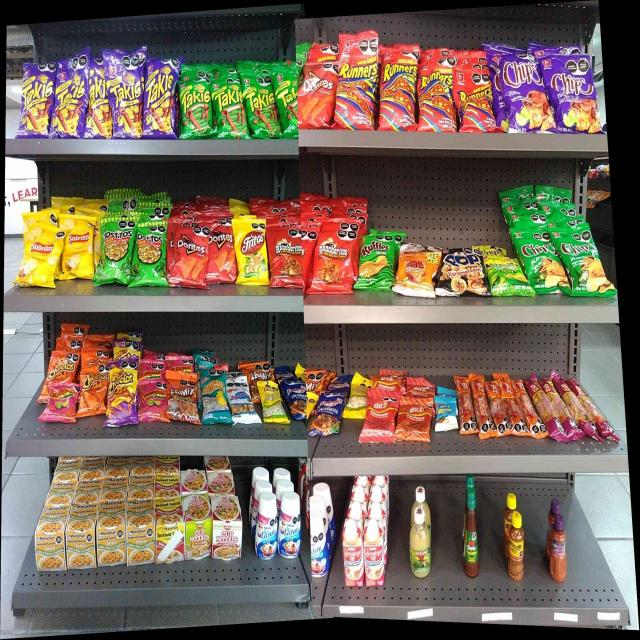bitzAlmendras: (436, 398, 455, 430)
bitzEnchilado90: (367, 391, 395, 441), (398, 398, 430, 440)
bitzEnchilado95: (490, 382, 529, 442), (474, 376, 488, 439), (458, 377, 473, 433)
bitzHabanero: (532, 377, 592, 441)
bokadosCacahuates: (318, 394, 339, 438), (286, 378, 306, 422)
botaneraChilito: (508, 510, 526, 581)
cheetosFlaminHot: (110, 363, 136, 424)
cheetosOriginal: (82, 373, 106, 414), (49, 354, 78, 382)
chipsFuego: (551, 56, 593, 132), (503, 60, 542, 130)
chipsJalapeno: (562, 226, 600, 296), (523, 220, 559, 290)
chipsPapatinas: (487, 254, 520, 295)
churrumais: (47, 385, 78, 426), (138, 380, 166, 420)
delPrimoSalsa: (410, 505, 433, 579)
doritosNacho: (300, 68, 332, 124), (177, 229, 207, 288), (208, 228, 235, 284)
fritosLimon: (237, 222, 267, 282)
hotNutsOriginal: (400, 252, 434, 297)
leoCacahuates: (228, 380, 252, 424)
leoMix: (169, 375, 196, 419)
maruchanPollo: (68, 505, 97, 567), (127, 501, 155, 564), (39, 505, 65, 570), (98, 503, 126, 563)
maruchanRes: (156, 502, 184, 562)
nestleCarnation: (364, 520, 386, 585), (342, 519, 362, 587)
nestleLechera: (310, 501, 330, 575), (278, 496, 302, 556), (256, 493, 276, 555)
nissinCamaron: (185, 495, 211, 558)
nissinRes: (213, 496, 240, 556)
popKarameladas: (443, 251, 484, 295)
rancheritos: (316, 236, 354, 290), (271, 231, 307, 281)
rufflesQueso: (360, 235, 394, 286)
runners: (383, 53, 416, 133), (339, 55, 374, 126), (456, 70, 494, 130), (419, 65, 454, 128)
sabritasOriginal: (28, 226, 59, 286), (67, 220, 94, 276)
salsaBufalo: (462, 489, 482, 579)
semillasCalabaza: (259, 383, 282, 422), (348, 389, 365, 416)
semillasGirasol: (200, 373, 227, 424)
tajinDulce: (550, 514, 568, 580)
takisFuego: (146, 63, 175, 136), (114, 74, 143, 138), (23, 73, 52, 136), (56, 78, 86, 138), (88, 76, 111, 139)
takisOriginal: (180, 82, 210, 137), (212, 84, 243, 136), (245, 81, 275, 134), (277, 77, 298, 134)
tostitos: (101, 218, 130, 282), (136, 222, 165, 282)
